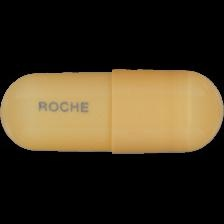0004-0802: (0, 0, 224, 224)
